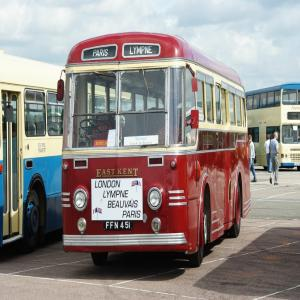Vehicle-registration-plate: (104, 221, 133, 232)
